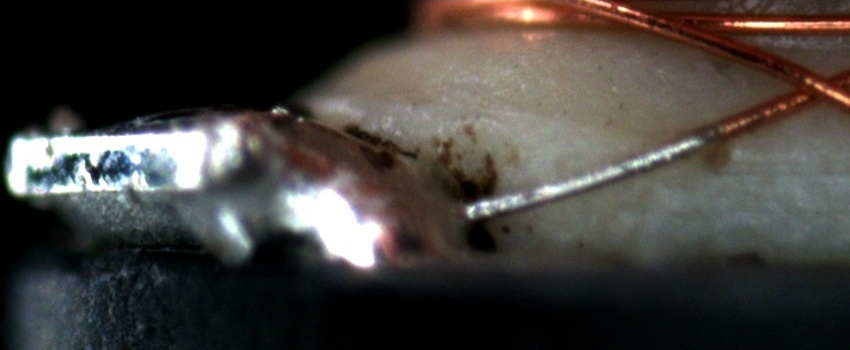CL: (768, 57, 845, 115)
DL: (681, 140, 850, 195)
TS: (464, 120, 717, 224)
